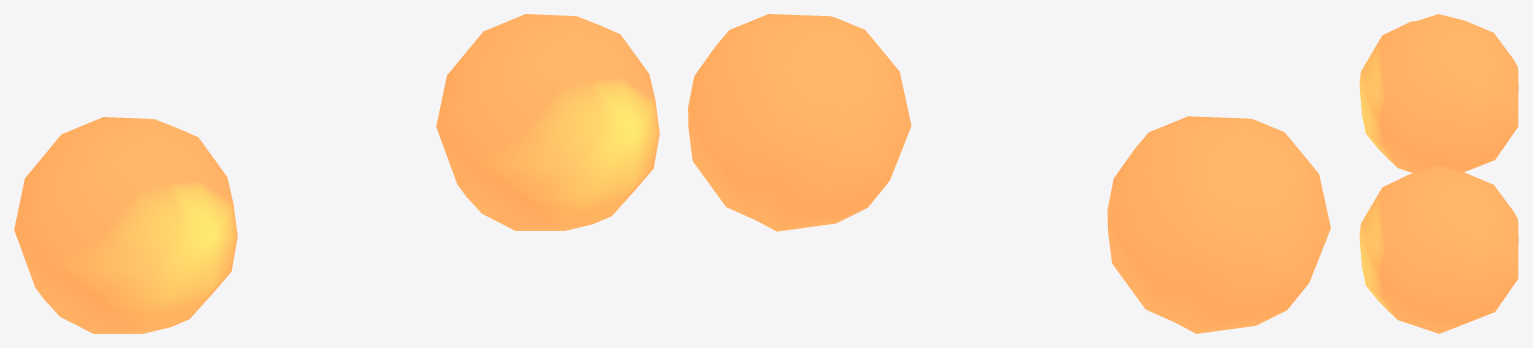
The model's file is eyes_glow_v14.glb.
The picture shows the model from 3 angles, left to right: view 1: azimuth 30°, elevation 25°; view 2: azimuth 150°, elevation 25°; view 3: azimuth 270°, elevation 25°; orthographic projection. The views are drawn at different scales.
Visible parts, largest first — view 1: eyes_glow; view 2: eyes_glow; view 3: eyes_glow.
Boxes of the visible parts, box(x1,y1,x2,y2) form: eyes_glow: box(14, 14, 659, 333); eyes_glow: box(688, 14, 1330, 333); eyes_glow: box(1359, 14, 1518, 333).
Size of the model in its own units: 0.1962 by 0.061 by 0.0601.
